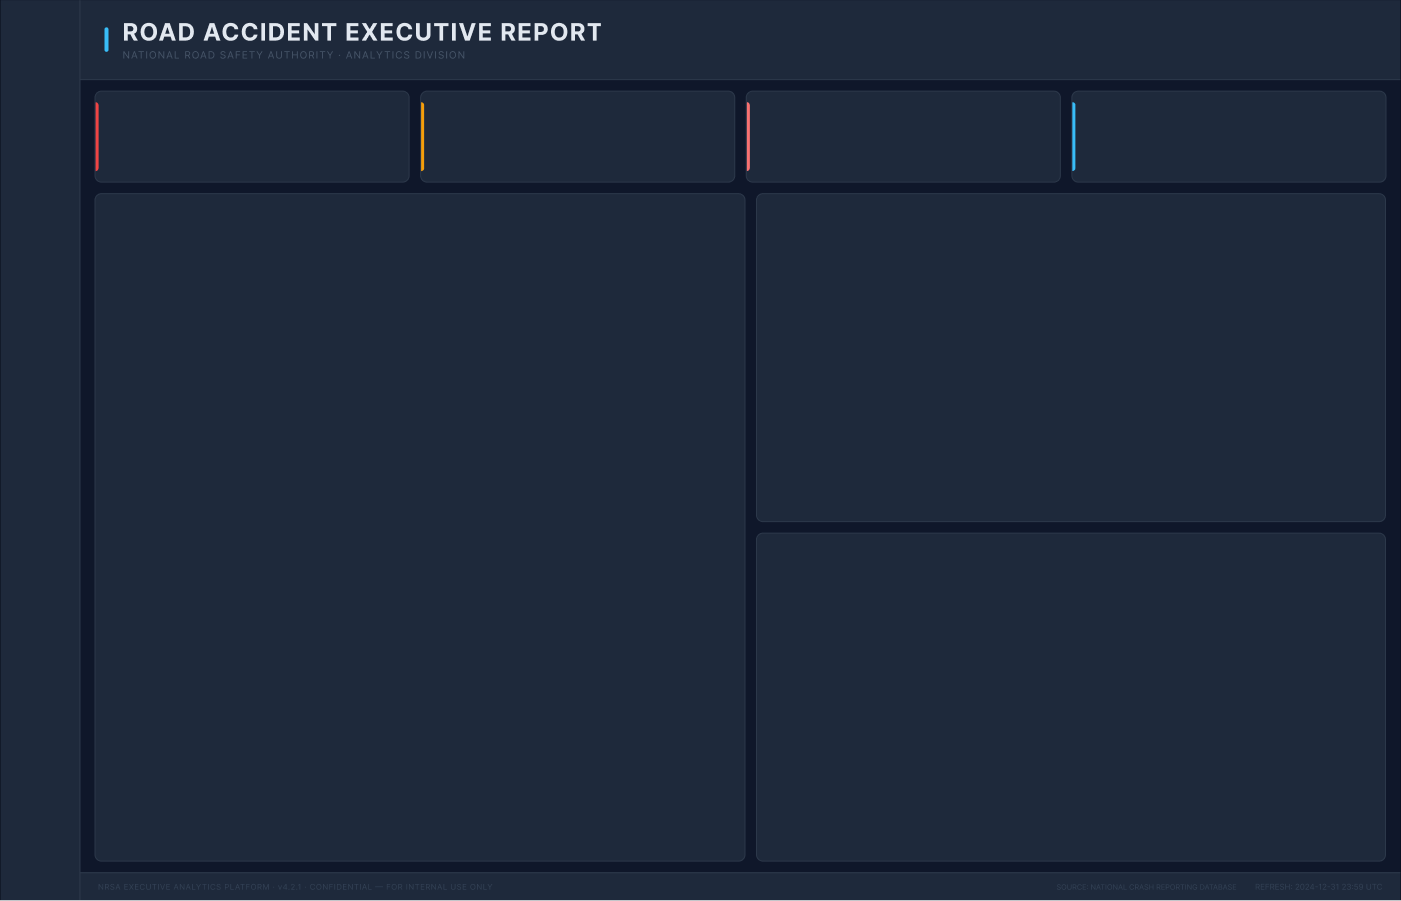

The dashboard page shown, as its layout file describes it:
{"tool":"powerbi","page":{"name":"Report 1","canvas":[1500,1500],"ordinal":0},"visuals":[{"type":"textbox","box":[9.6,0,279.9,41.2],"z":0},{"type":"textbox","box":[193.3,20,1113.3,120],"z":1000},{"type":"shape","box":[35,175,631.7,296.7],"z":2000},{"type":"cardVisual","fields":{"Data":["Sum(Query1.Injury Total)"]},"box":[55.1,254.9,198.3,126.7],"z":3000},{"type":"cardVisual","fields":{"Data":["Sum(Query1.Num units)"]},"box":[253.4,254.9,193.3,126.7],"z":4000},{"type":"lineStackedColumnComboChart","title":"Biểu đồ phân tích số vụ tai nạn và số phương tiện trong từng năm","fields":{"Category":["Query1.year"],"Y":["Sum(Query1.Injury Total)"],"Y2":["Sum(Query1.Num units)"]},"box":[721.7,175,728.3,296.7],"z":5000},{"type":"pieChart","title":"Biểu đồ thống kê số vụ tai nạn theo vụ va chạm tổng thể","fields":{"Y":["Sum(Query1.Number of Accident)"],"Category":["Query1.Crash Type"]},"box":[36.7,565,631.7,368.3],"z":6000},{"type":"clusteredBarChart","title":"Biểu đồ phân tích số vụ tai nạn và phương tiện theo các mức độ thiệt hại","fields":{"Category":["Query1.Damage Extension"],"Y":["Sum(Query1.Number of Accident)","Sum(Query1.Num units)"]},"box":[721.7,565,728.3,368.3],"z":7000},{"type":"pivotTable","title":"Bảng phân tích các vụ va chạm trong từng năm","fields":{"Rows":["Query1.year"],"Columns":["Query1.First Crash Type"],"Values":["Sum(Query1.Injury Total)","Sum(Query1.Number of Accident)"]},"box":[43.3,996.7,1413.3,468.3],"z":8000},{"type":"cardVisual","fields":{"Data":["Sum(Query1.Number of Accident)"]},"box":[446.8,254.9,193.3,126.7],"z":9000}]}

Visuals, with their boxes on the page's 1500x1500 design canvas (x1, y1, x2, y2). These are canvas units, not pixel positions in the 1401x901 screenshot, which may show the page scaled, cropped or inside an application window:
textbox: (left=10, top=0, right=290, bottom=41)
textbox: (left=193, top=20, right=1307, bottom=140)
shape: (left=35, top=175, right=667, bottom=472)
cardVisual - Sum(Query1.Injury Total): (left=55, top=255, right=253, bottom=382)
cardVisual - Sum(Query1.Num units): (left=253, top=255, right=447, bottom=382)
"Biểu đồ phân tích số vụ tai nạn và số phương tiện trong từng năm" lineStackedColumnComboChart: (left=722, top=175, right=1450, bottom=472)
"Biểu đồ thống kê số vụ tai nạn theo vụ va chạm tổng thể" pieChart: (left=37, top=565, right=668, bottom=933)
"Biểu đồ phân tích số vụ tai nạn và phương tiện theo các mức độ thiệt hại" clusteredBarChart: (left=722, top=565, right=1450, bottom=933)
"Bảng phân tích các vụ va chạm trong từng năm" pivotTable: (left=43, top=997, right=1457, bottom=1465)
cardVisual - Sum(Query1.Number of Accident): (left=447, top=255, right=640, bottom=382)
